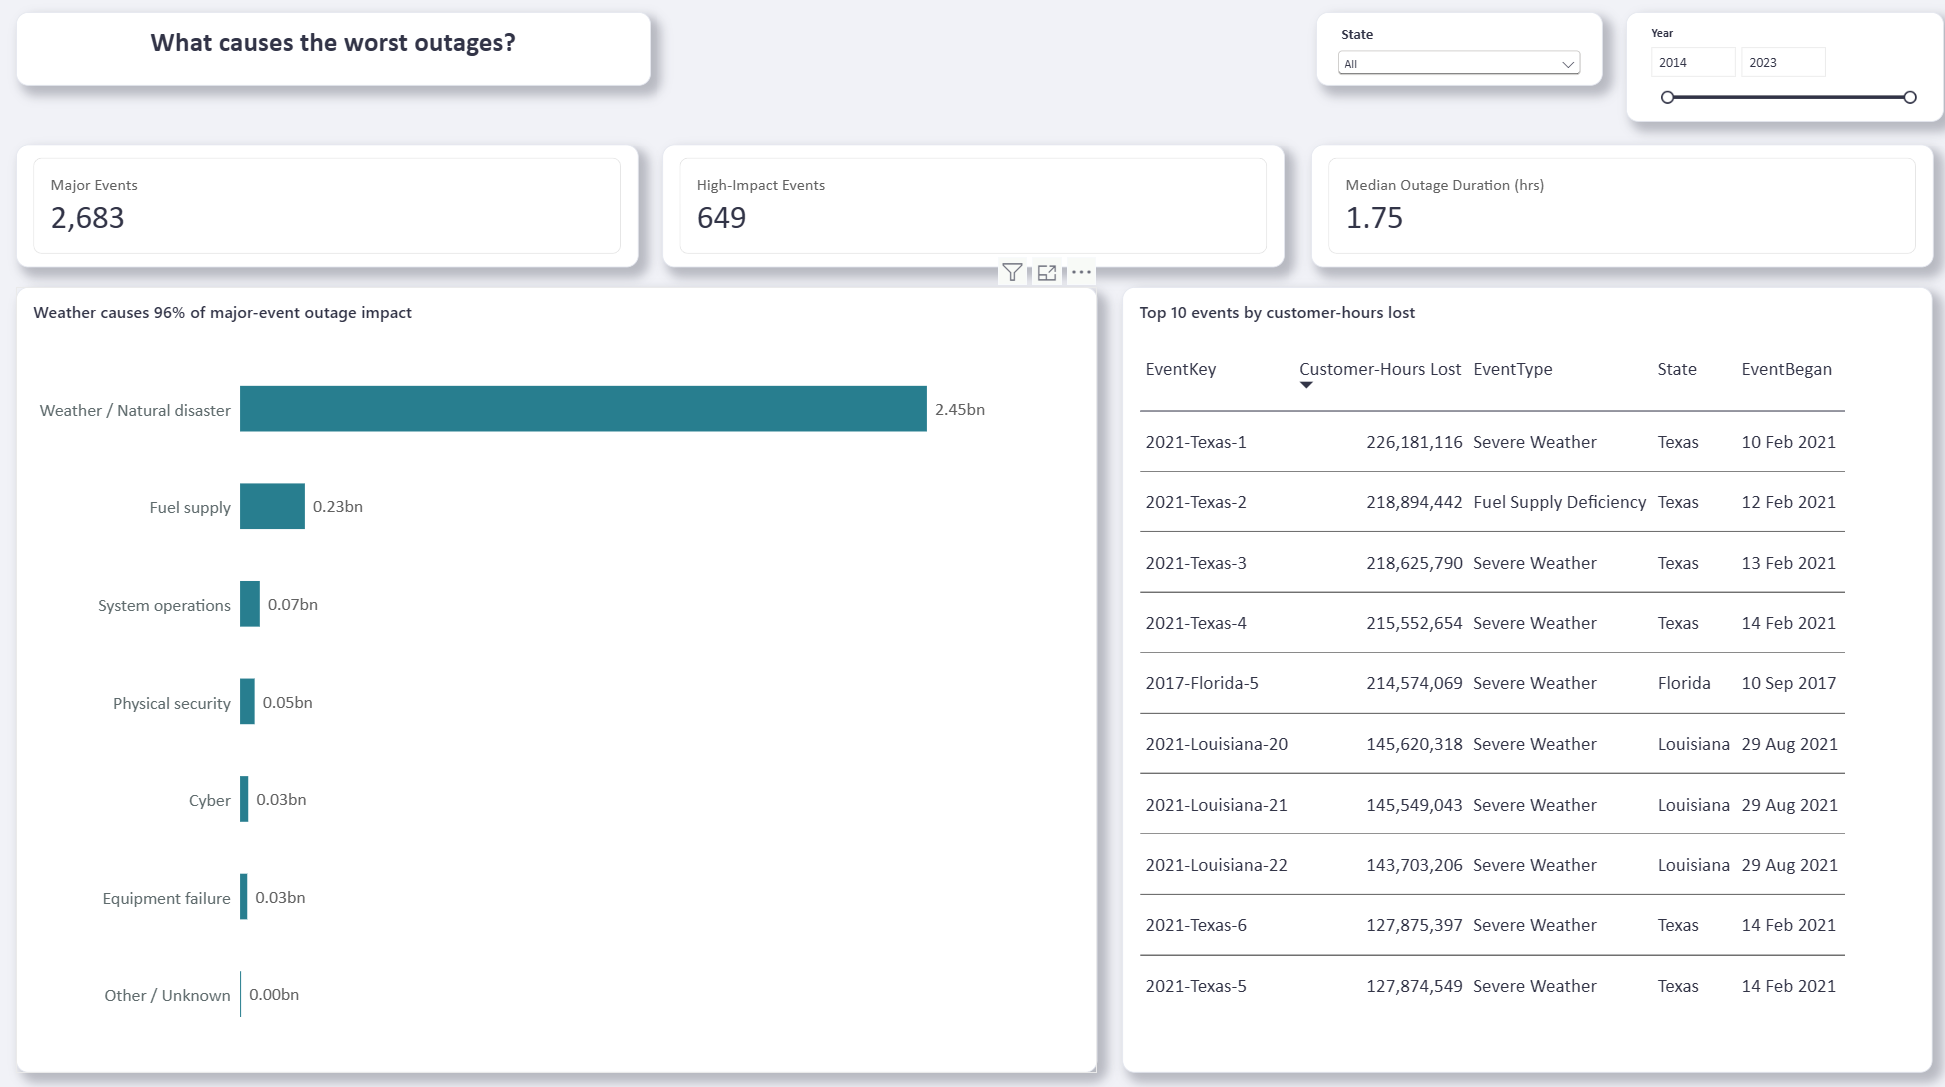

What the dashboard file says about the page in this screenshot:
{"tool":"powerbi","page":{"name":"Causes","canvas":[1920,1080],"ordinal":1},"visuals":[{"type":"slicer","fields":{"Values":["DimDate.Year"]},"box":[1597.1,20,310,107.1],"z":0},{"type":"slicer","fields":{"Values":["DimState.State"]},"box":[1294.3,20,280,72],"z":1000},{"type":"textbox","box":[24.3,20,620,72],"z":2000},{"type":"cardVisual","fields":{"Data":["_Measures.Major Events Label"]},"box":[24.3,148.6,608,120],"z":3000},{"type":"cardVisual","fields":{"Data":["_Measures.High-Impact Events"]},"box":[655.7,148.6,608,120],"z":4000},{"type":"cardVisual","fields":{"Data":["_Measures.Median Outage Duration (hrs)"]},"box":[1288.6,148.6,608,120],"z":5000},{"type":"clusteredBarChart","title":"Weather causes 96% of major-event outage impact","fields":{"Category":["DimEvent.CauseCategory"],"Y":["_Measures.Customer-Hours Lost"]},"box":[24.3,288.6,1055.7,767.1],"z":6000},{"type":"tableEx","title":"Top 10 events by customer-hours lost","fields":{"Values":["DimEvent.EventKey","_Measures.Customer-Hours Lost","DimEvent.EventType","DimEvent.State","DimEvent.EventBegan"]},"box":[1104.3,288.6,791.4,767.1],"z":6001}]}

Visuals, with their boxes in screenshot pixels (x1, y1, x2, y2), scaled from the page's 1920x1080 canvas onto the 1945x1087 screenshot:
slicer - DimDate.Year: <box>1618,20,1932,128</box>
slicer - DimState.State: <box>1311,20,1595,93</box>
textbox: <box>25,20,653,93</box>
cardVisual - _Measures.Major Events Label: <box>25,150,641,270</box>
cardVisual - _Measures.High-Impact Events: <box>664,150,1280,270</box>
cardVisual - _Measures.Median Outage Duration (hrs): <box>1305,150,1921,270</box>
"Weather causes 96% of major-event outage impact" clusteredBarChart: <box>25,290,1094,1063</box>
"Top 10 events by customer-hours lost" tableEx: <box>1119,290,1920,1063</box>
